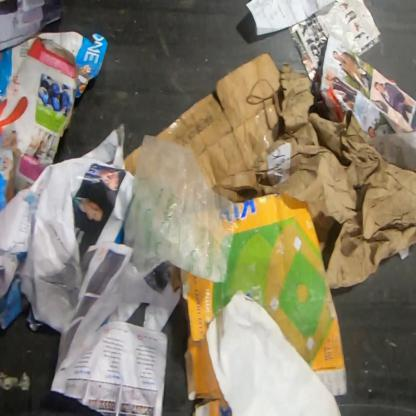cardboard: (166, 192, 349, 415), (251, 61, 415, 291), (0, 30, 109, 214), (154, 50, 282, 204), (123, 144, 142, 177)
soft_plastic: (122, 134, 238, 284)
